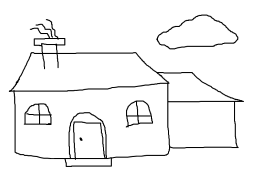closed_window: (123, 96, 155, 131), (23, 99, 54, 127)
clouds: (155, 13, 240, 50)
door: (63, 111, 108, 163)
roof: (7, 48, 170, 97)
smoking_chimney: (27, 16, 73, 71)
wall: (10, 78, 175, 162)
